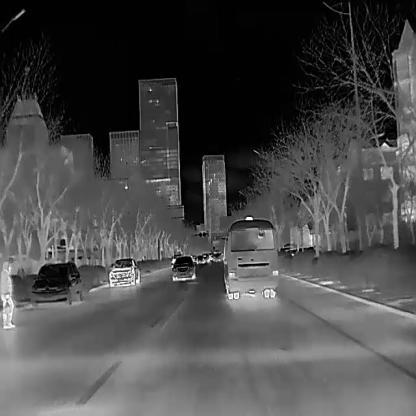car: (221, 214, 277, 299), (31, 260, 83, 306), (0, 259, 13, 329), (107, 257, 139, 285), (170, 255, 195, 280), (196, 254, 204, 264), (203, 252, 209, 262)
